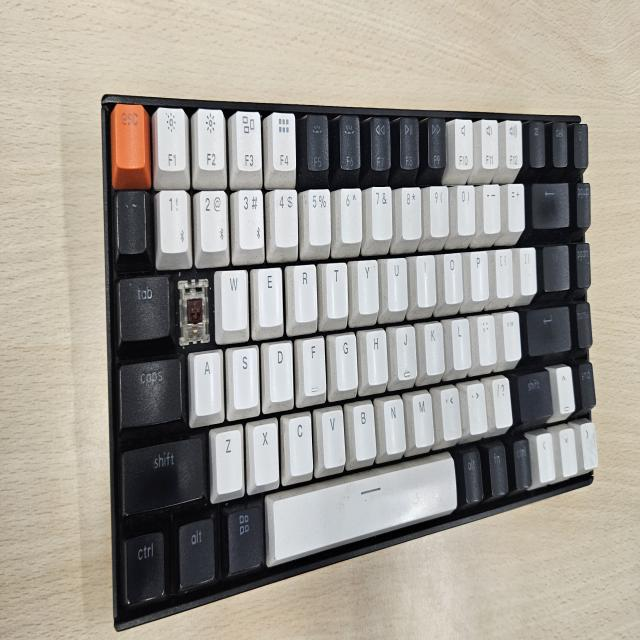C: (180, 279, 212, 343)
